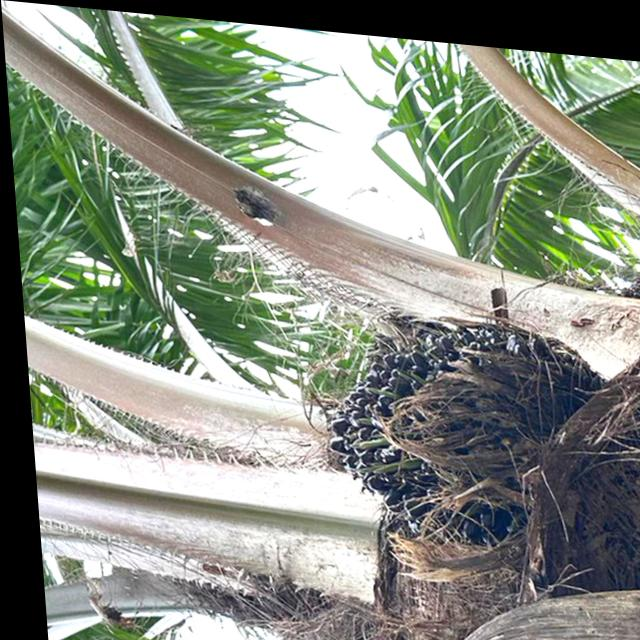unripe: (302, 290, 622, 565)
